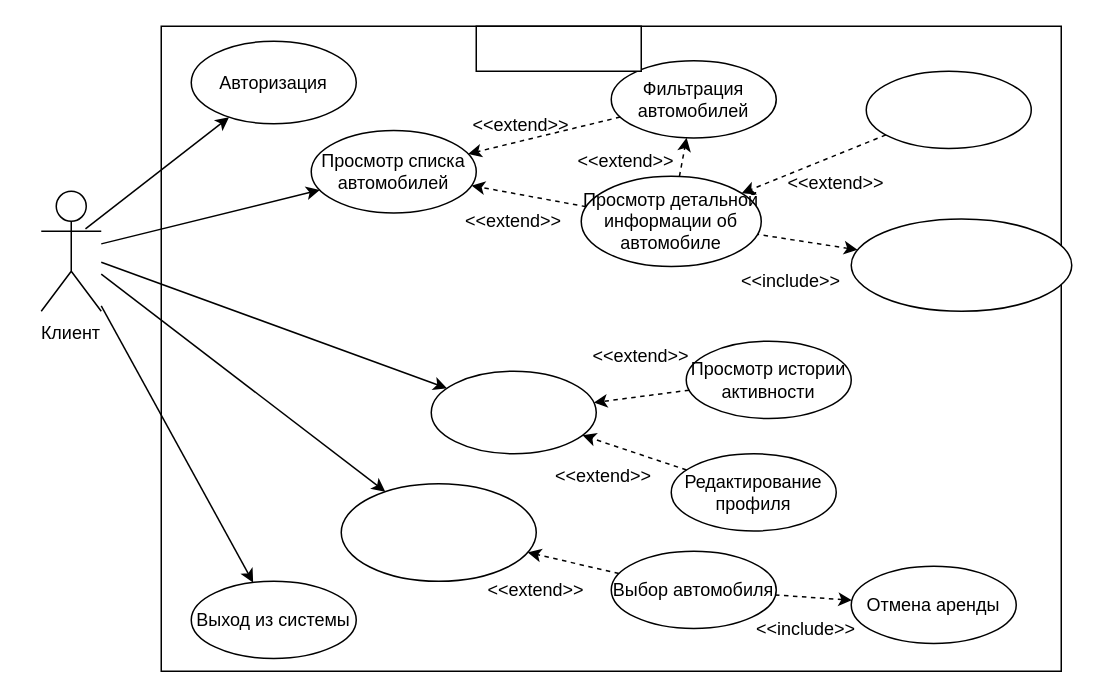
Some shapes in this 1098 by 698 pixel diagram are drawn without their labels. Here are the shapes that lost their labels. From the top down, the centre of each, then its label:
point (558, 48): Система аренды автомобилей
point (948, 109): Просмотр информации о партнере
point (961, 264): Переход на сайт-партнера для бронирование автомобиля
point (513, 412): Просмотр профиля
point (438, 531): Просмотр списка забронированных автомобилей
